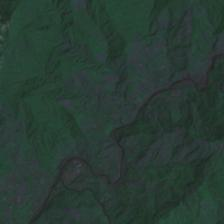landslides: (83, 211, 105, 223), (150, 118, 161, 131), (152, 104, 163, 115)
